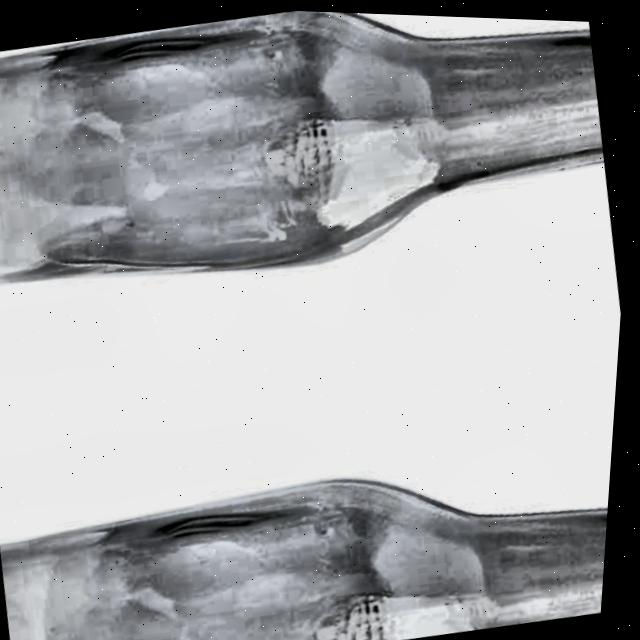glass: (0, 8, 606, 288), (6, 475, 615, 640)
